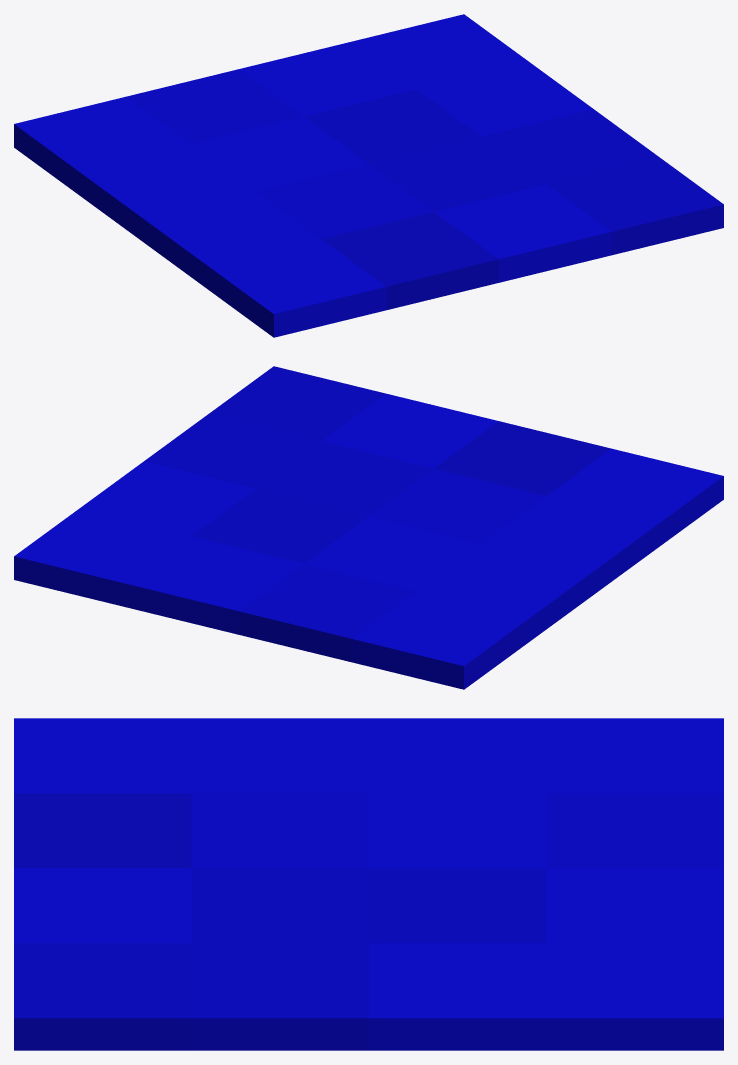
Rendered from water.glb.
The picture shows the model from 3 angles, top to bottom: view 1: azimuth 30°, elevation 25°; view 2: azimuth 150°, elevation 25°; view 3: azimuth 270°, elevation 25°; orthographic projection. The views are drawn at different scales.
Parts seen in each view (by area): view 1: world; view 2: world; view 3: world.
Part boxes in pixels (bbox=[...]): world: bbox=[14, 14, 723, 337]; world: bbox=[14, 366, 723, 689]; world: bbox=[14, 718, 723, 1050].
Bounding box in the file's own units: 4 × 0.2 × 4.
